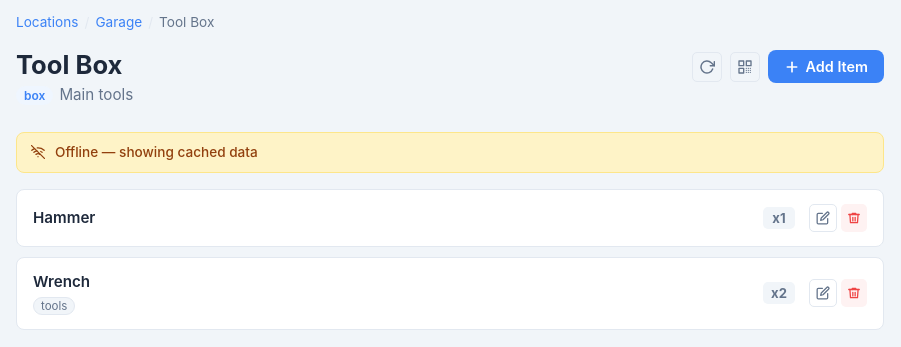
Test: Container page — offline delete item › removes a server-synced item from the UI immediately
Expected: the text "Hammer" is shown, [33,208,95,227]
Note: Find and click delete for Hammer (id 101)
Step 1. Click the button titled "Delete" in the row of "Hammer" → (854, 218), box [841,204,867,232]
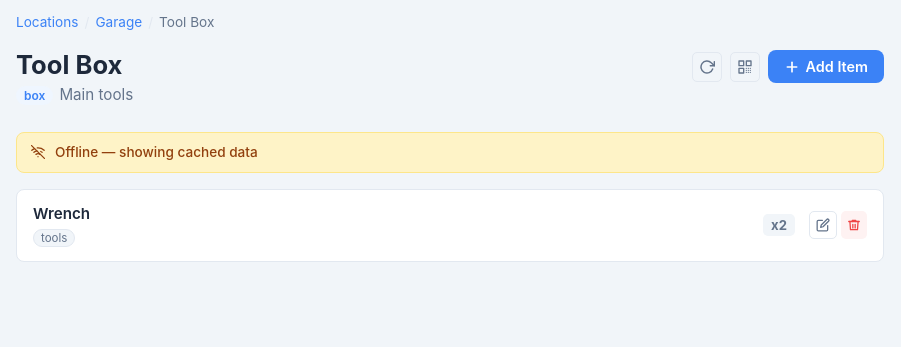
Result: the text "Hammer" is gone
